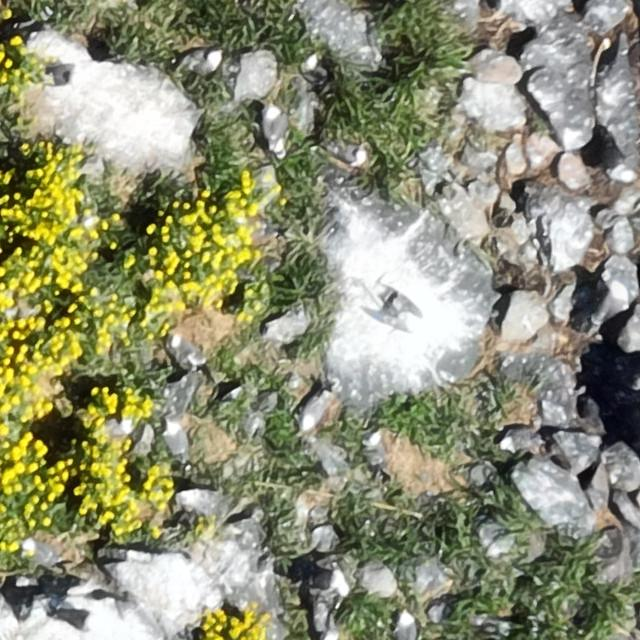umineko: (379, 281, 420, 330), (299, 383, 335, 432), (360, 425, 391, 471), (165, 423, 188, 459), (264, 108, 284, 148), (326, 144, 364, 165), (183, 51, 219, 72), (501, 430, 534, 451), (57, 608, 91, 626), (396, 612, 416, 640), (222, 388, 241, 403)
